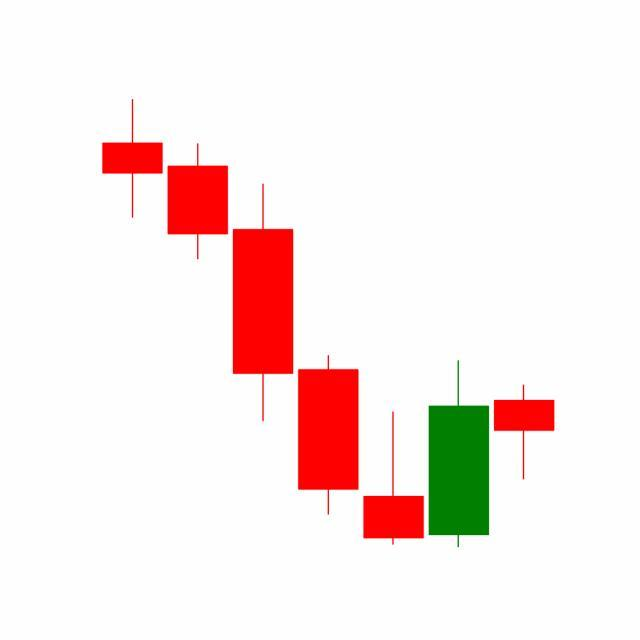Morning Star: (295, 353, 492, 549)
